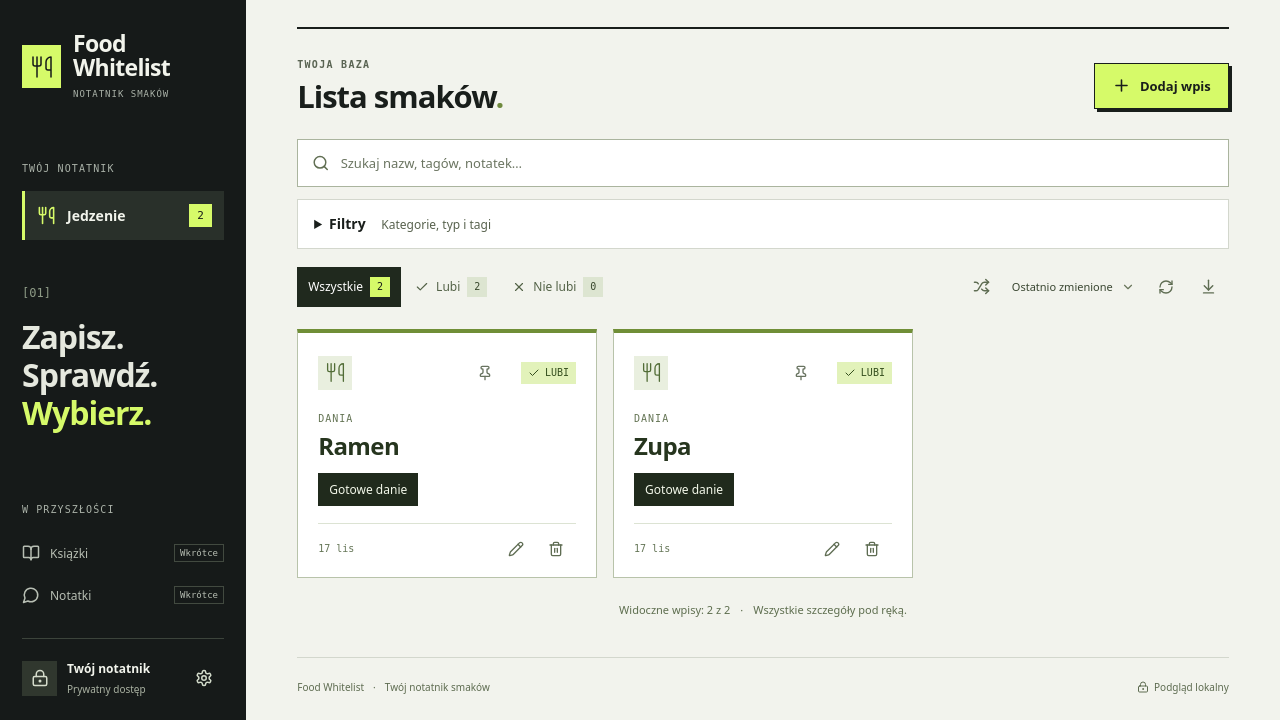
pins entries and independently undoes two deletions without changing their identities
Later steps or results of the test are not shown.
(page scrolled)
Click the button named "Przypnij: Zupa". click: (801, 373)
box: [781, 353, 821, 393]
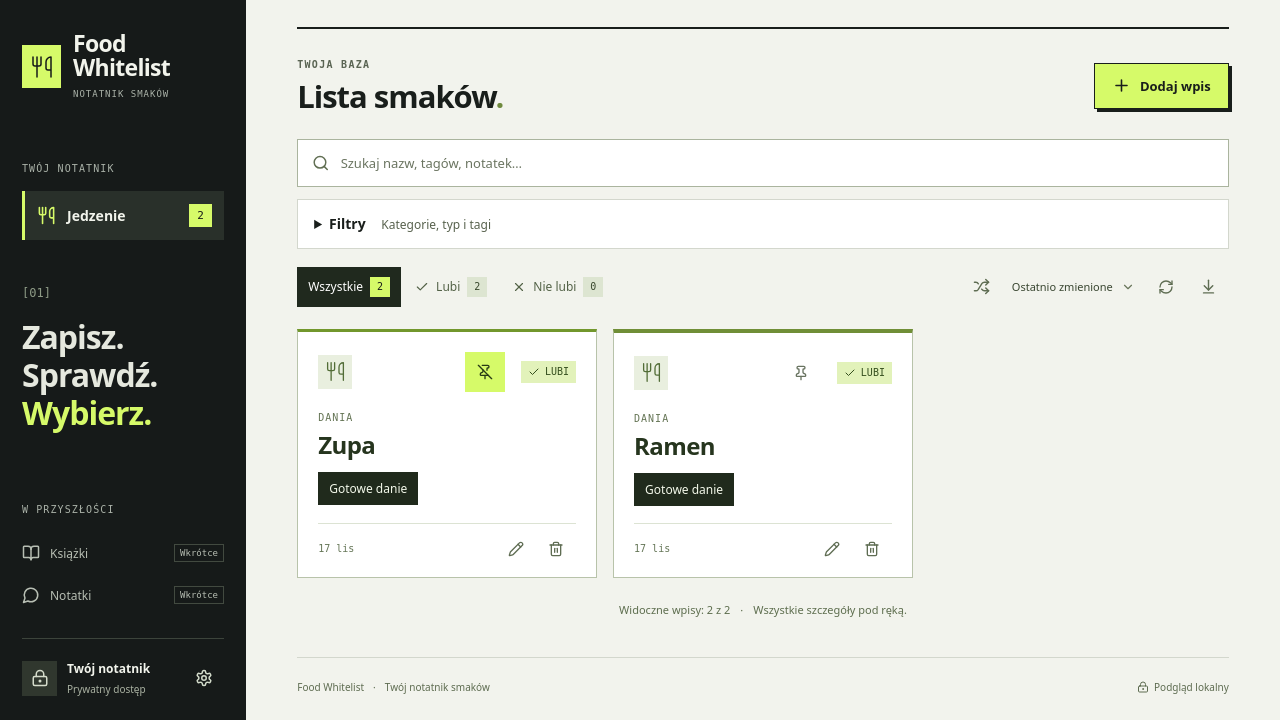
Expected: the heading "Zupa" is shown, [318, 428, 375, 461]
Click the button named "Usuń: Zupa". click: (556, 549)
box: [536, 529, 576, 569]
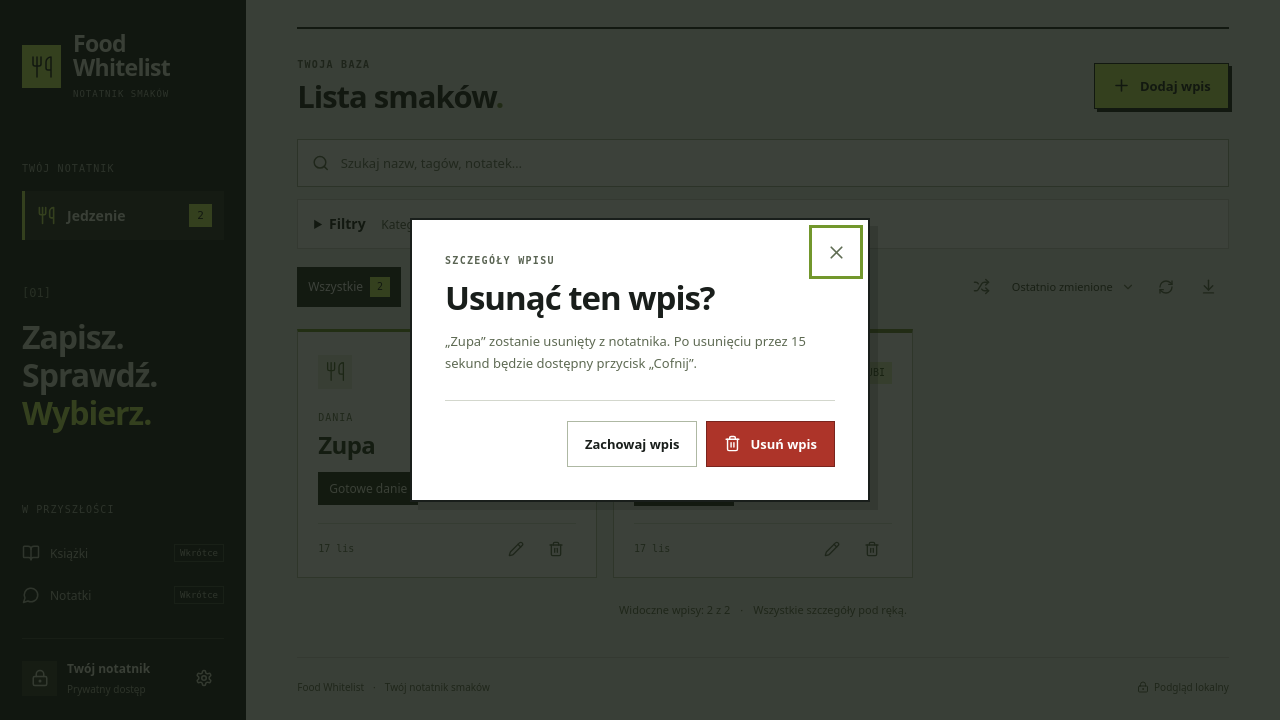
Expected: the button "Usuń wpis" is shown
Click the button "Usuń wpis". click: (771, 444)
box: [706, 421, 835, 467]
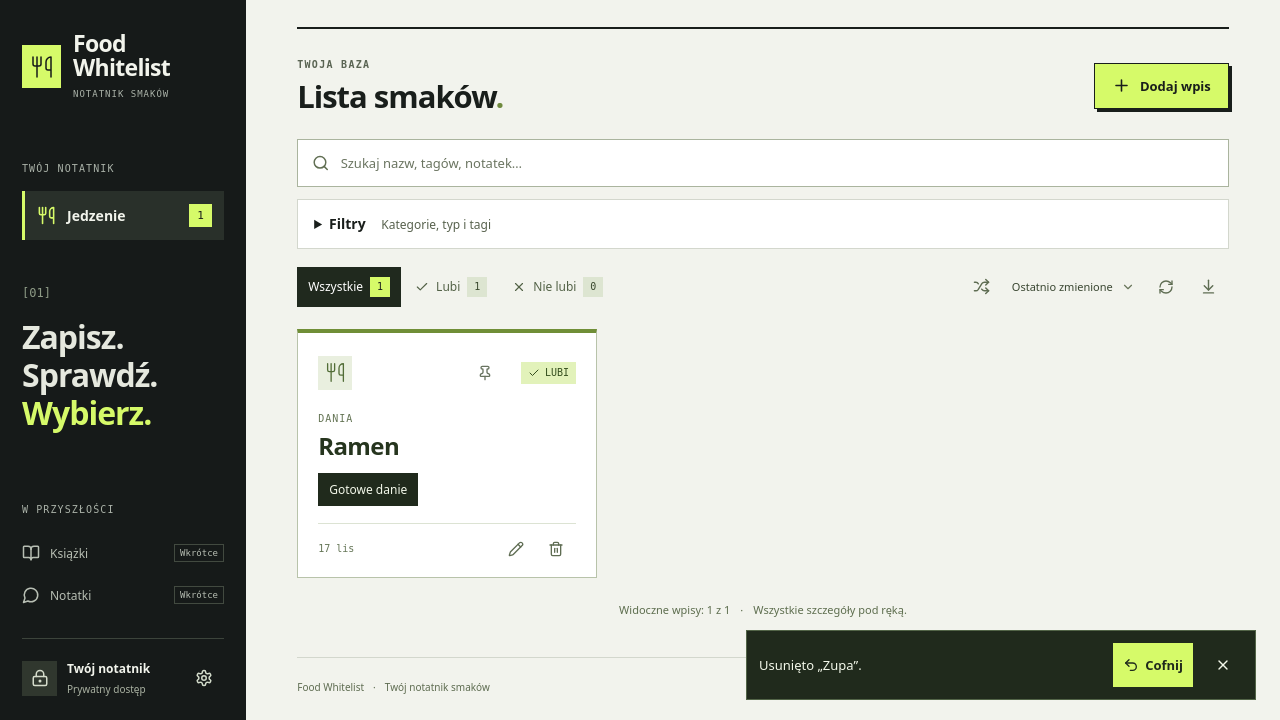
Click the button named "Usuń: Ramen". click: (556, 549)
box: [536, 529, 576, 569]
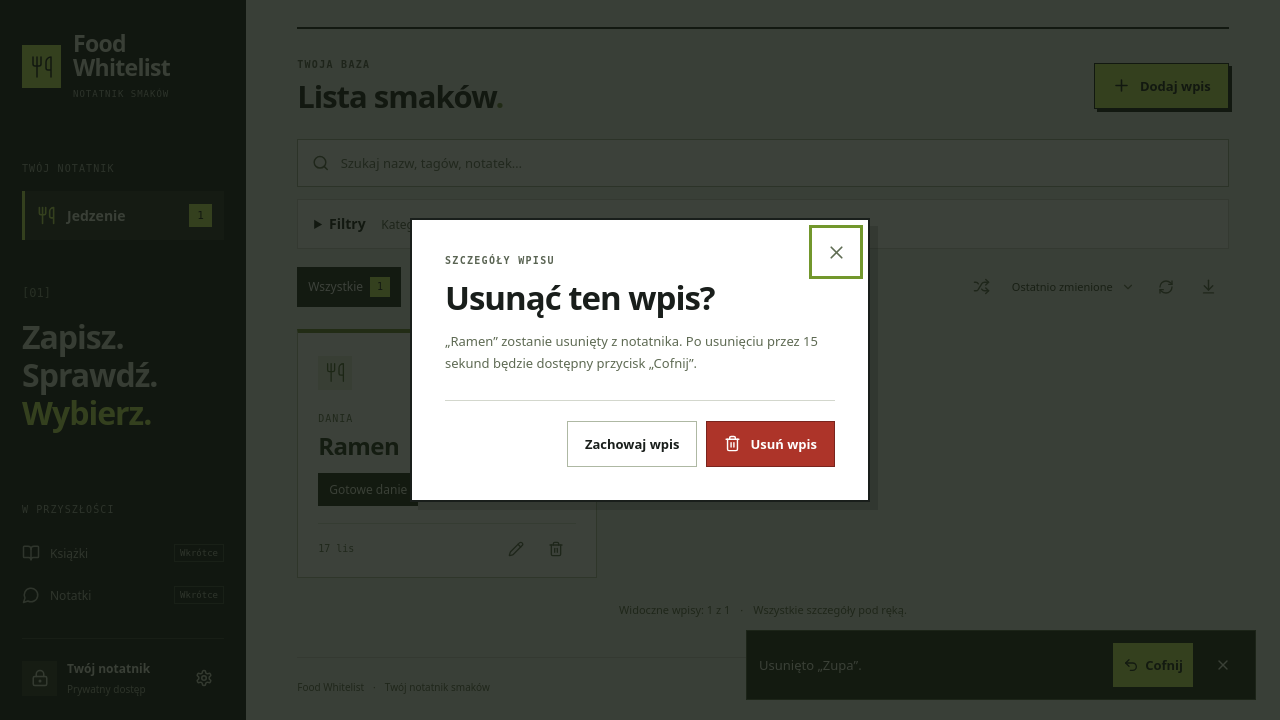
Expected: the button "Usuń wpis" is shown
Click the button "Usuń wpis". click: (771, 444)
box: [706, 421, 835, 467]
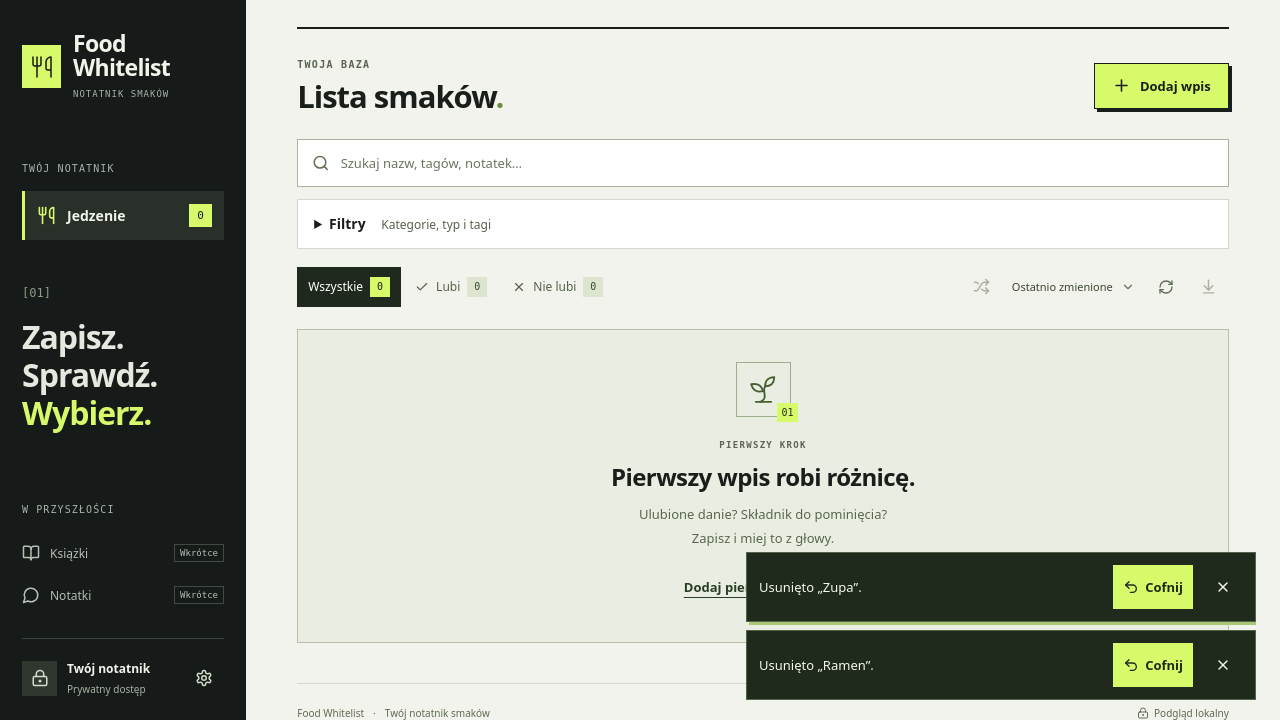
Expected: the button "Cofnij" in the row of "Zupa" is shown
Expected: the number of elements with class "undo-notice" is 2, [746, 552, 1256, 622]; [746, 630, 1256, 700]
Click the button "Cofnij" in the row of "Zupa". click: (1153, 587)
box: [1113, 565, 1193, 609]
(page scrolled)
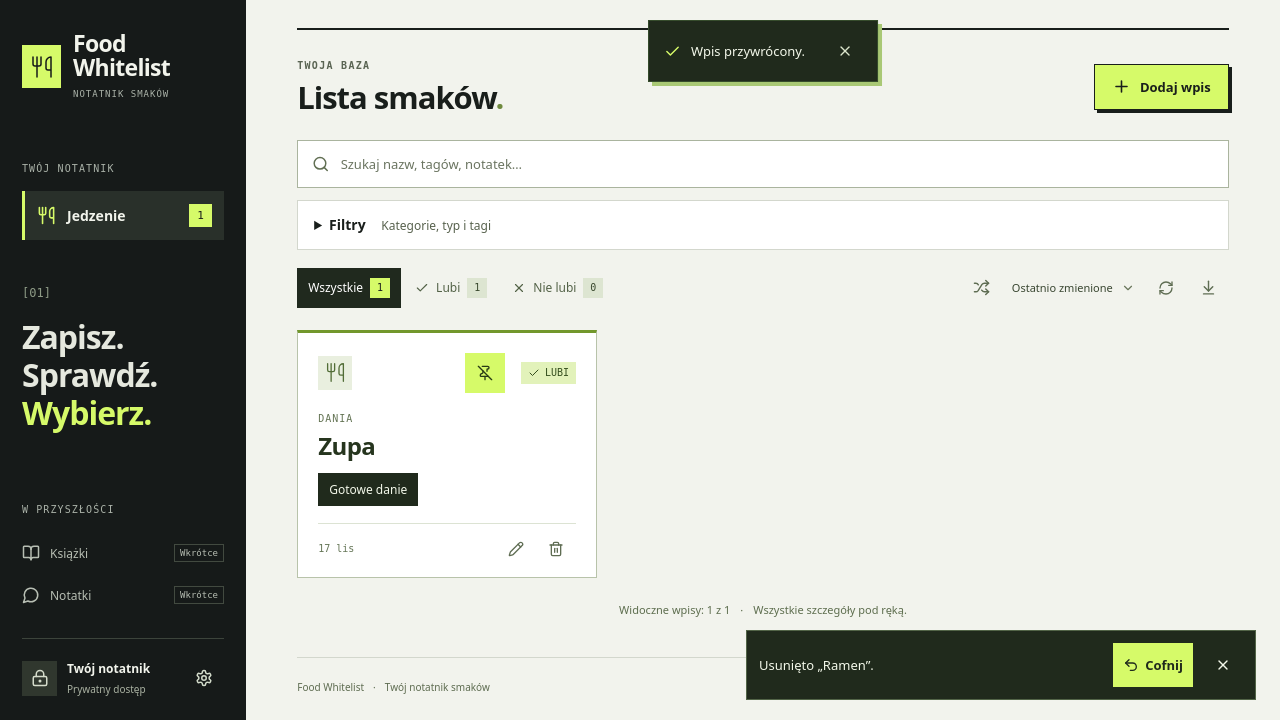
Expected: the button "Cofnij" is shown, [1113, 643, 1193, 687]
